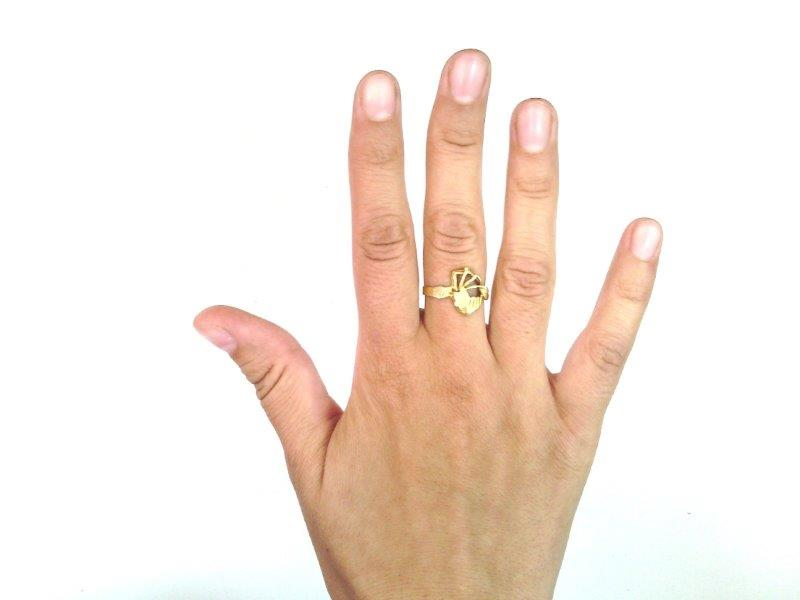hand: (194, 47, 662, 600)
